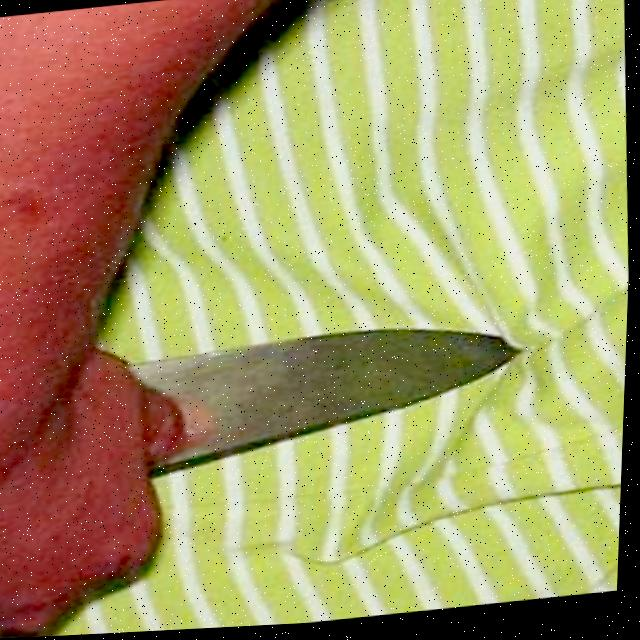knife: (125, 318, 534, 483)
